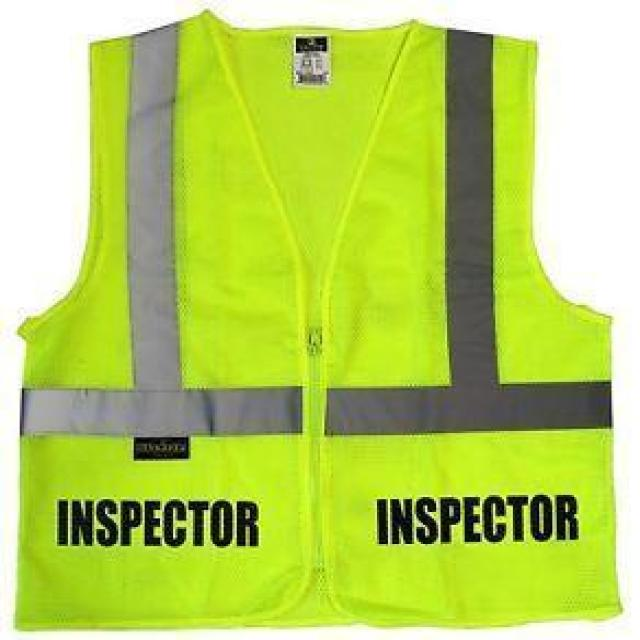Vest: (17, 6, 627, 625)
